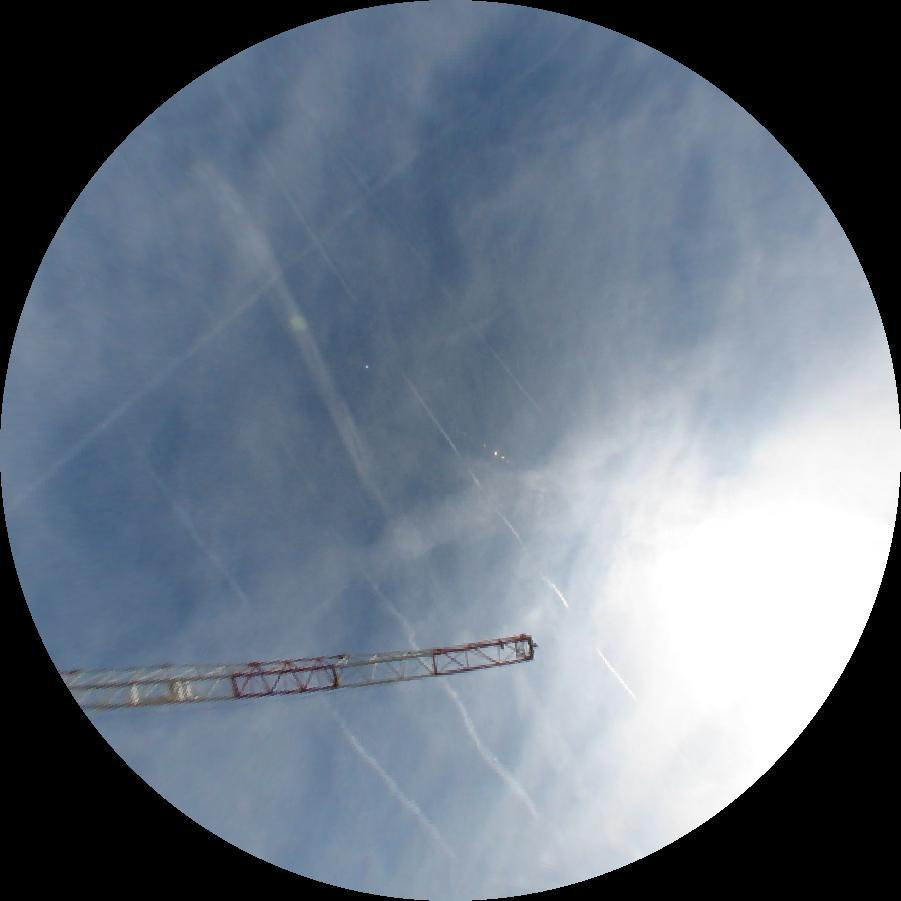contrail old: (206, 77, 638, 707)
contrail veryold: (160, 333, 739, 686), (116, 432, 457, 864), (189, 147, 470, 629), (275, 449, 544, 825), (494, 666, 604, 810)
contrail young: (273, 63, 541, 416)
